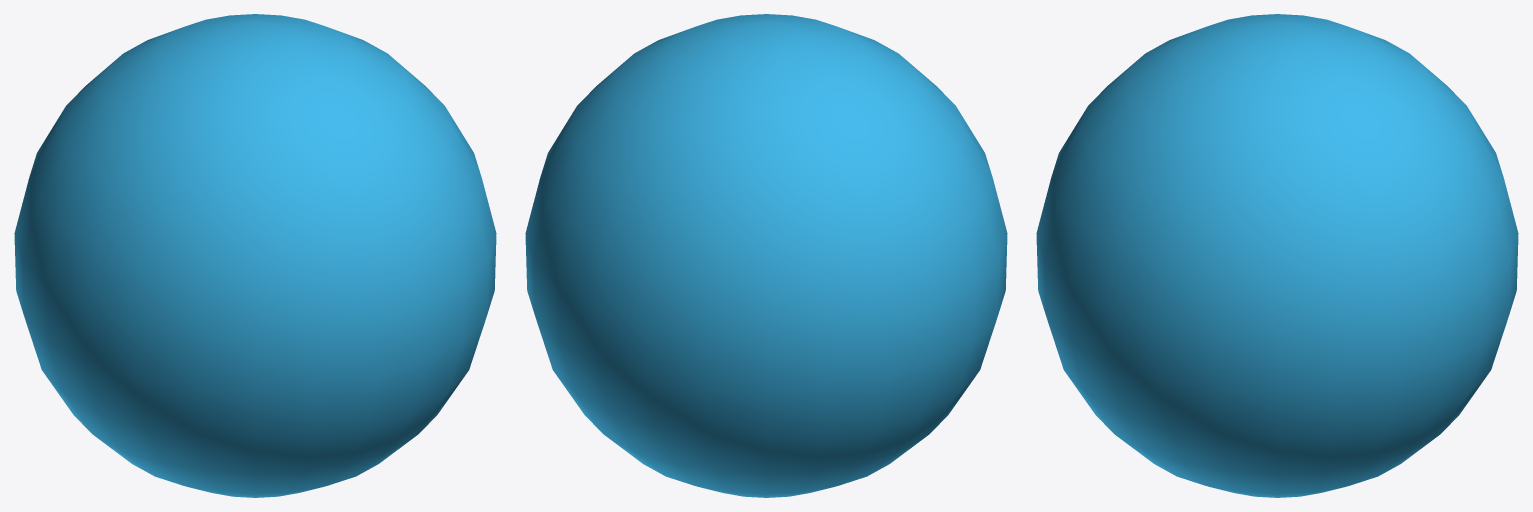
The model's file is ball_blue.obj.
The picture shows the model from 3 angles, left to right: view 1: azimuth 30°, elevation 25°; view 2: azimuth 150°, elevation 25°; view 3: azimuth 270°, elevation 25°; orthographic projection.
Parts seen in each view (by area): view 1: ball_blue; view 2: ball_blue; view 3: ball_blue.
Part boxes in pixels (x1,y1,x2,y2): ball_blue: (14, 14, 496, 497); ball_blue: (525, 14, 1007, 497); ball_blue: (1036, 14, 1518, 497).
Bounding box in the file's own units: 0.0699 × 0.0698 × 0.0699.
